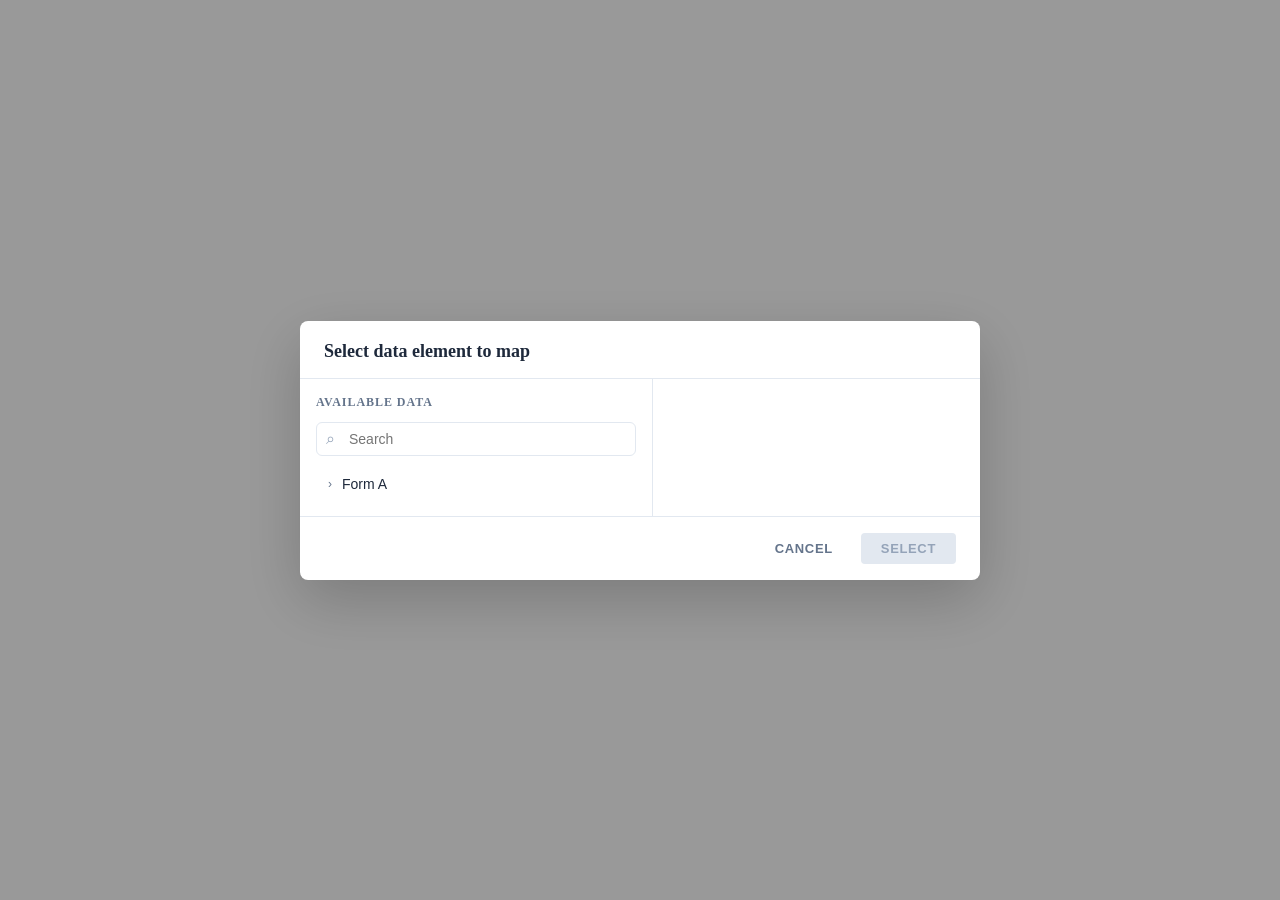
Test: DataElementModal › filters groups and fields by search query
This screenshot has width=1280, height=900.
// Expand first
Click the button "› Form A": x=365, y=484 x1=316 y1=468 x2=636 y2=500
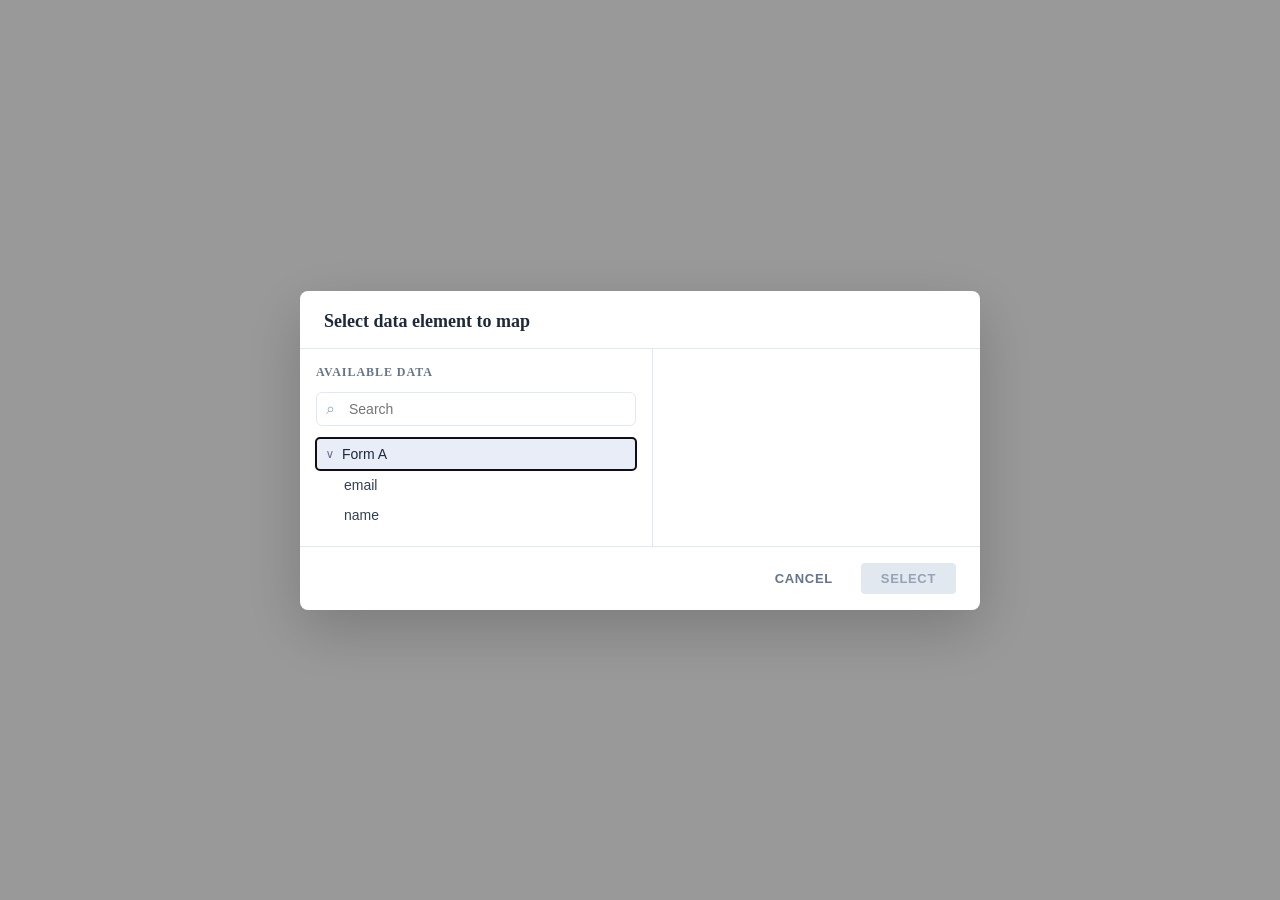
Expected: the button "email" is shown, x1=336 y1=470 x2=636 y2=500
Expected: the button "name" is shown, x1=336 y1=500 x2=636 y2=530
In the search field: x=476, y=408 x1=316 y1=392 x2=636 y2=426, type "email"
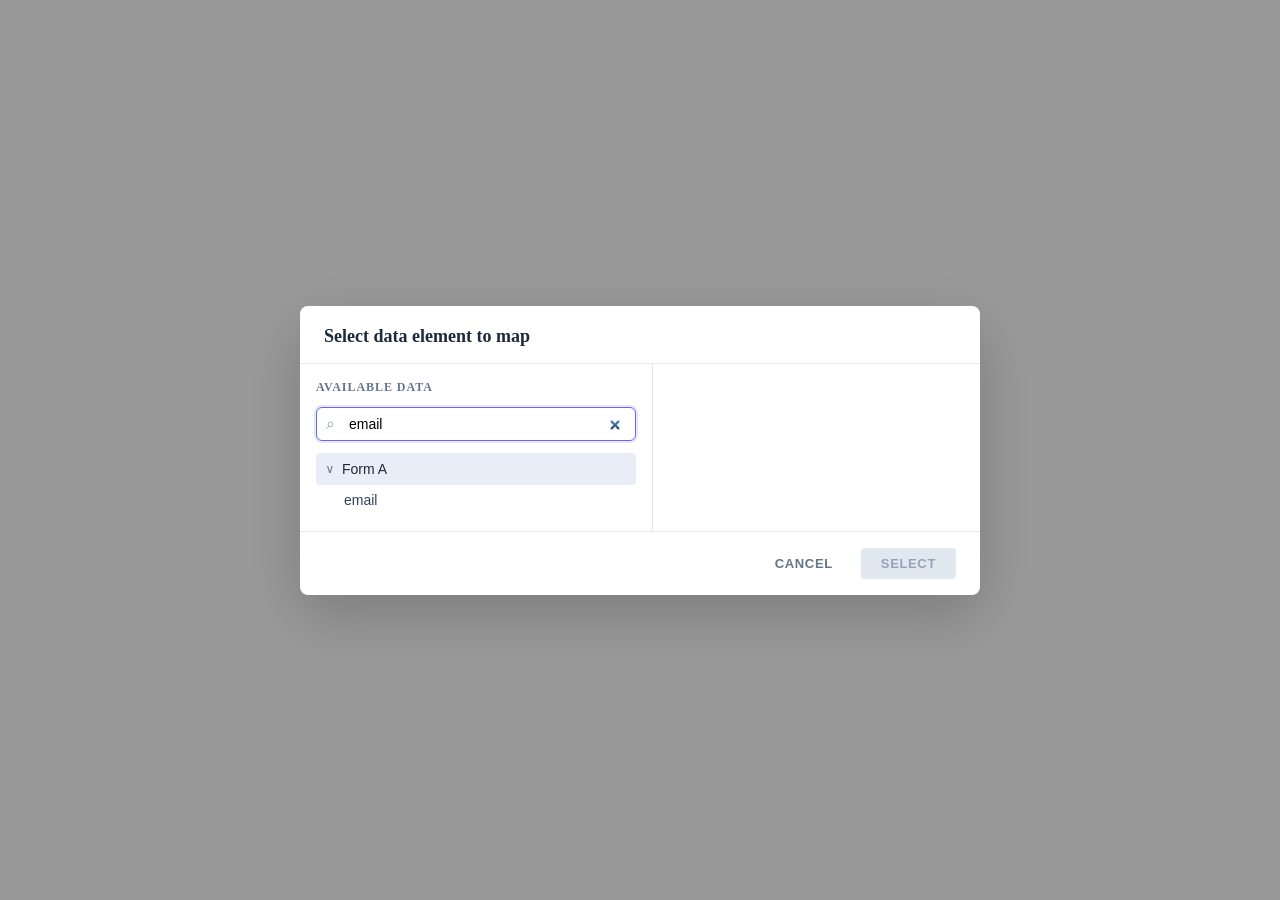
Expected: the button "email" is shown, x1=336 y1=484 x2=636 y2=514
Expected: the button "name" is gone
